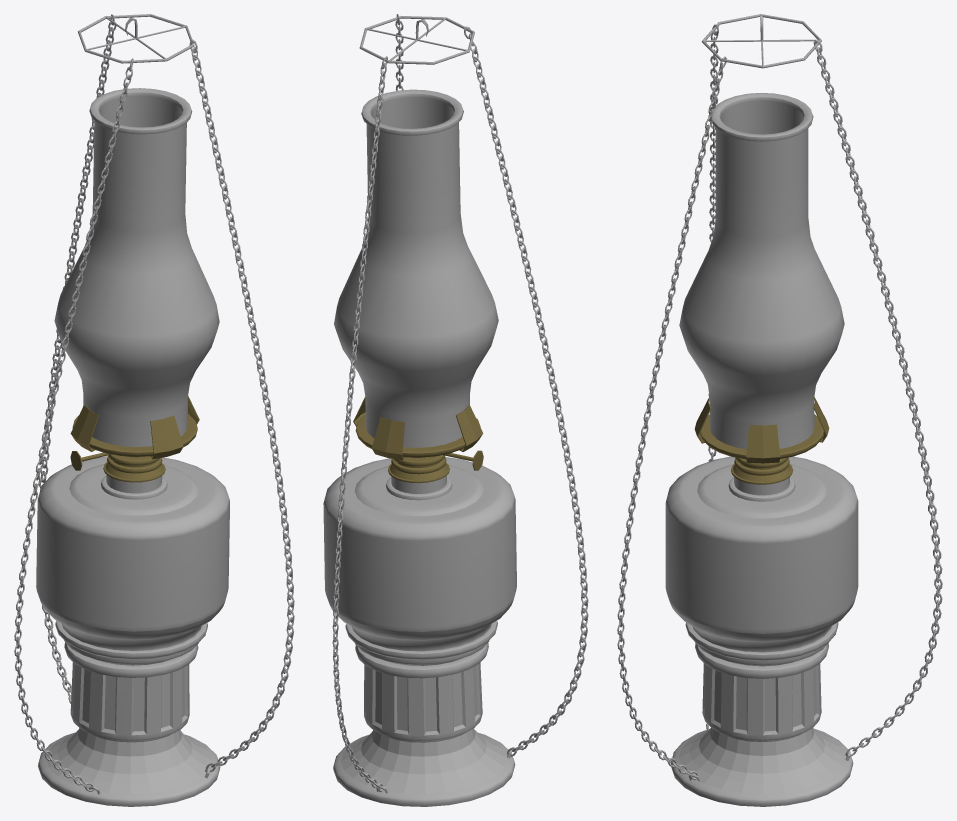
File: PR_LanternChain_01_SilriKimGraceHoang.fbx
3 views of the same model, side by side, from view 1: azimuth 30°, elevation 25°; view 2: azimuth 150°, elevation 25°; view 3: azimuth 270°, elevation 25° (orthographic).
Parts seen in each view (by area): view 1: base, Glass_01, ChainLink1, ChainLink, ChainLink2, prongs, nozzle, Burnerplate, pTorus52; view 2: base, Glass_01, ChainLink, ChainLink2, prongs, nozzle, Burnerplate, pTorus52; view 3: base, Glass_01, ChainLink2, ChainLink1, prongs, nozzle, Burnerplate, ChainLink, pTorus52.
Boxes of the visible parts, x1,y1,x2,y2 form: base: (36,456,229,806); Glass_01: (54,88,219,446); ChainLink1: (191,47,294,772); ChainLink: (14,67,132,791); ChainLink2: (39,21,116,703); prongs: (70,396,199,459); nozzle: (103,454,165,482); Burnerplate: (72,414,197,457); pTorus52: (78,14,194,63); base: (323,457,516,806); Glass_01: (334,89,498,447); ChainLink: (469,34,588,756); ChainLink2: (332,63,386,792); prongs: (353,397,483,460); nozzle: (388,455,449,483); Burnerplate: (355,415,480,457); pTorus52: (359,16,474,64); base: (665,456,858,806); Glass_01: (679,93,844,449); ChainLink2: (817,47,942,756); ChainLink1: (617,63,723,780); prongs: (694,397,829,463); nozzle: (731,457,792,484); Burnerplate: (700,414,824,459); ChainLink: (708,30,718,461); pTorus52: (701,14,821,68).
Size of the model in its own units: 65.09 by 200 by 78.17.
